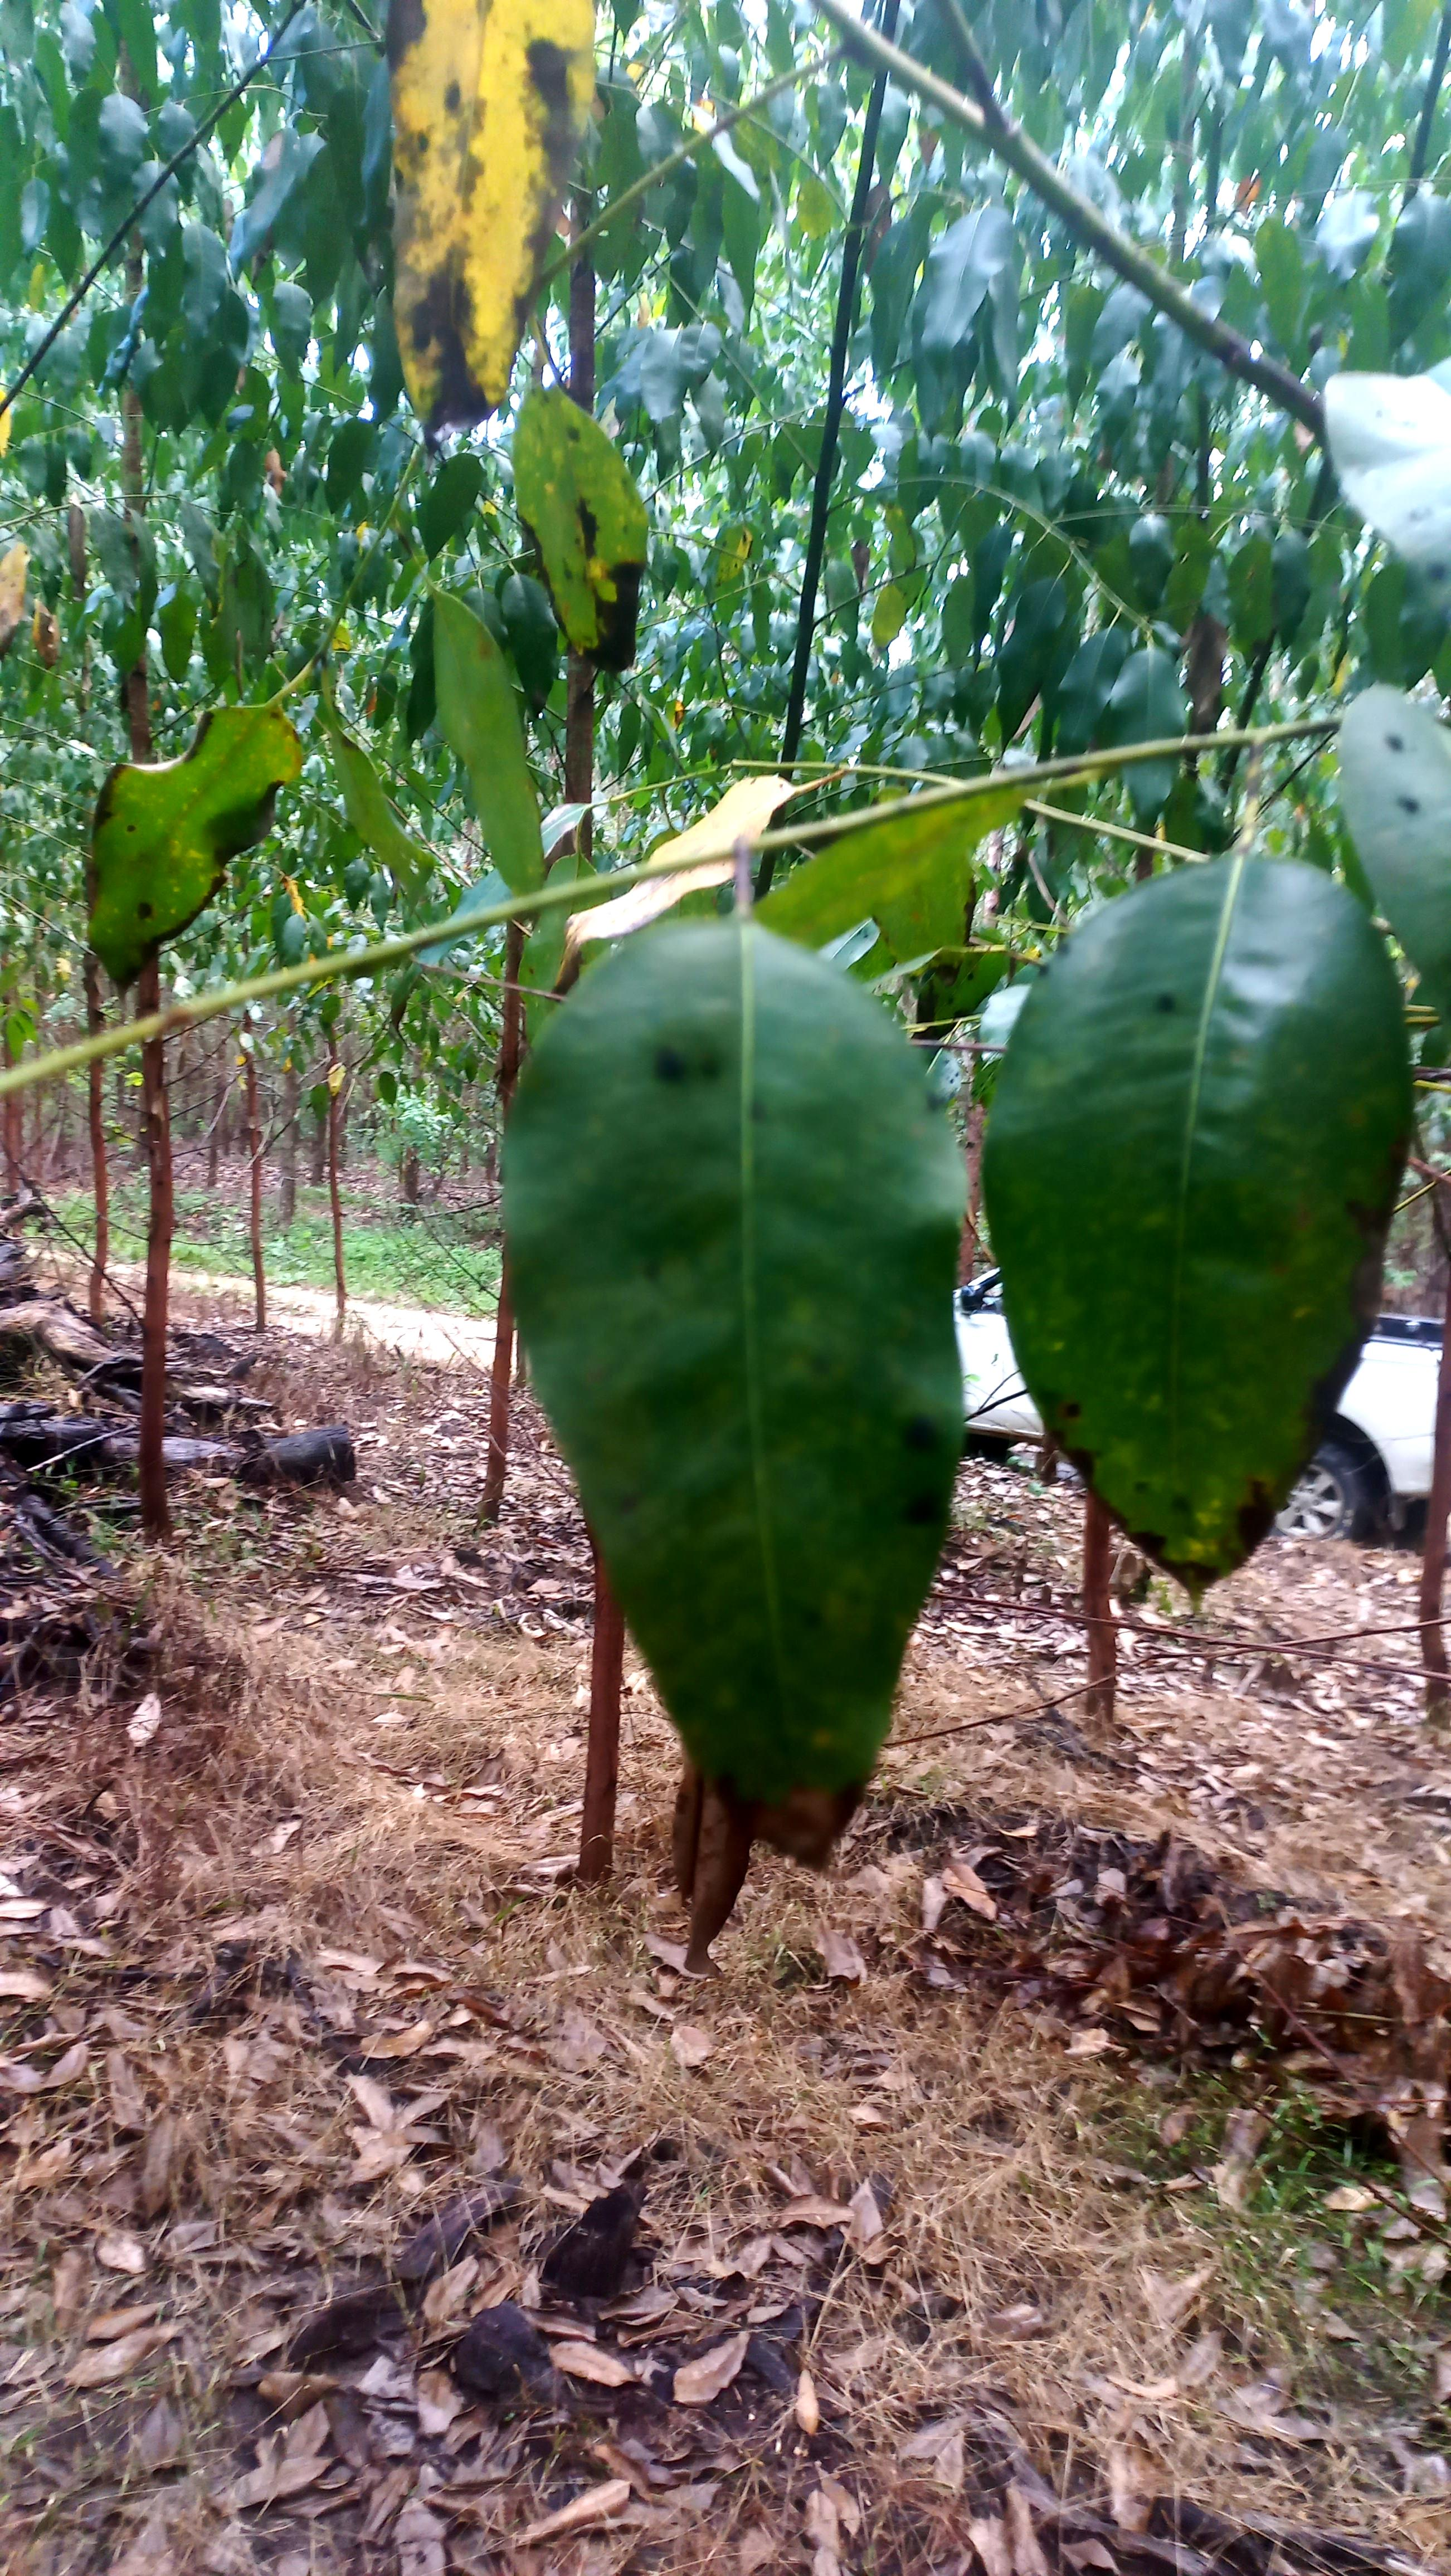Cylindrocladium: (368, 0, 610, 455), (1014, 1389, 1297, 1606), (1283, 1122, 1426, 1479), (517, 481, 660, 683), (69, 708, 223, 833), (108, 860, 232, 1007), (65, 856, 104, 939)
Embun Jelaga: (501, 908, 980, 1879), (1332, 692, 1451, 994)
